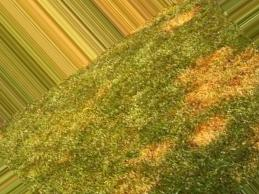patch: (190, 70, 259, 101), (119, 175, 155, 192), (195, 125, 212, 139), (141, 146, 156, 154)
